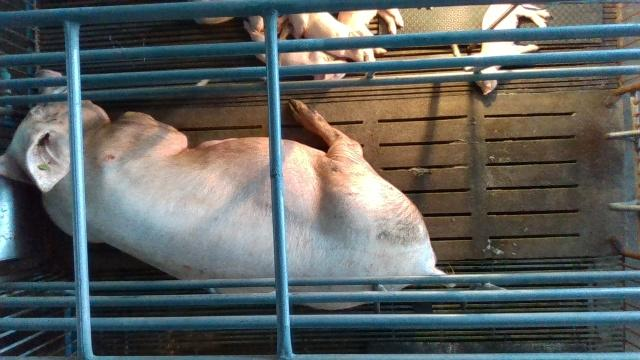piglet: (464, 4, 551, 95), (243, 21, 348, 81), (288, 12, 376, 62), (338, 8, 405, 53)
sow-sleep: (0, 68, 455, 311)
